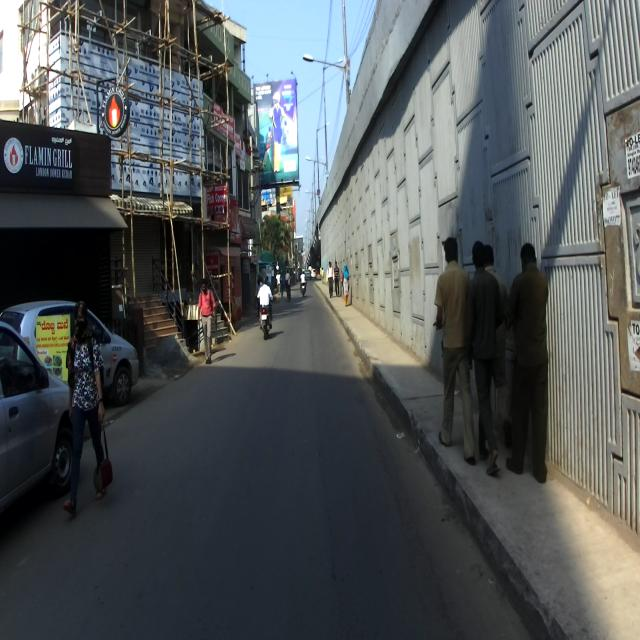car ahead at: (2, 314, 74, 546)
motorcycle ahead at: (256, 279, 275, 340)
person ahead at: (60, 297, 116, 516)
